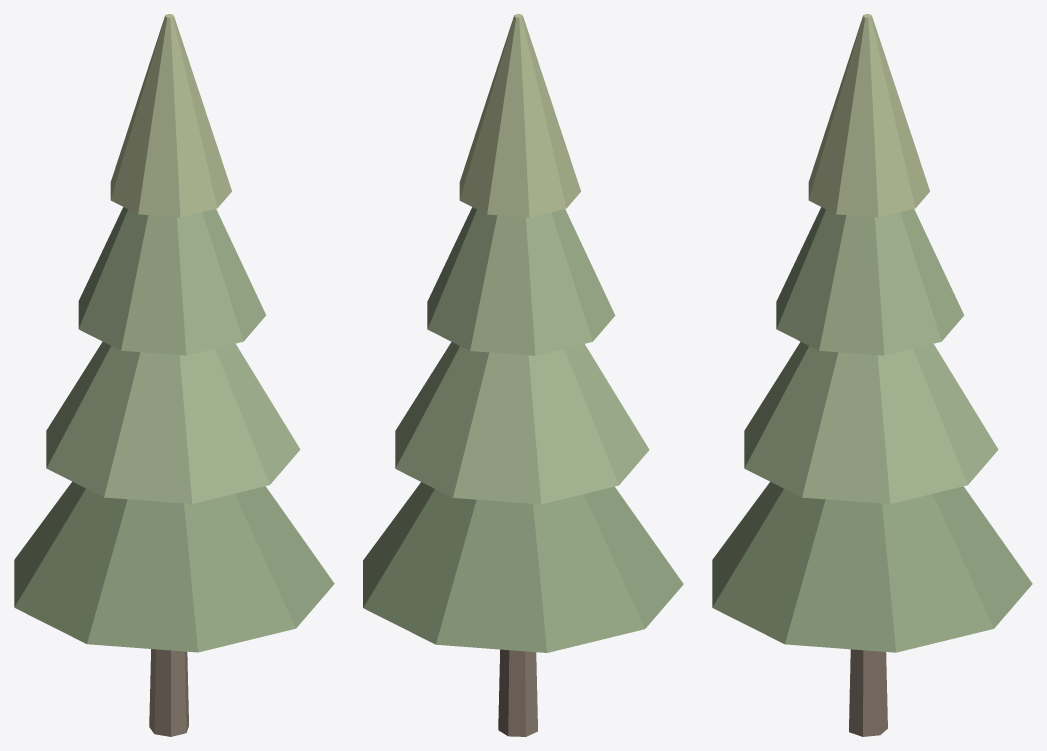
Rendered from tree_pine.glb.
3 renders of one model, left to right at view 1: azimuth 30°, elevation 25°; view 2: azimuth 150°, elevation 25°; view 3: azimuth 270°, elevation 25°, orthographic.
Parts seen in each view (by area): view 1: tree_pine; view 2: tree_pine; view 3: tree_pine.
Boxes of the visible parts, x1,y1,x2,y2 form: tree_pine: (14, 14, 334, 736); tree_pine: (363, 14, 683, 736); tree_pine: (712, 14, 1032, 736).
Size of the model in its own units: 2.86 by 6.9 by 2.81.
